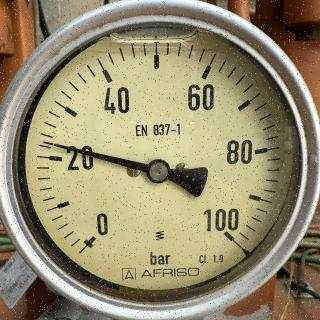gauge: (0, 0, 320, 320), (201, 207, 251, 257), (75, 220, 109, 256), (145, 158, 171, 184), (38, 137, 54, 147)
